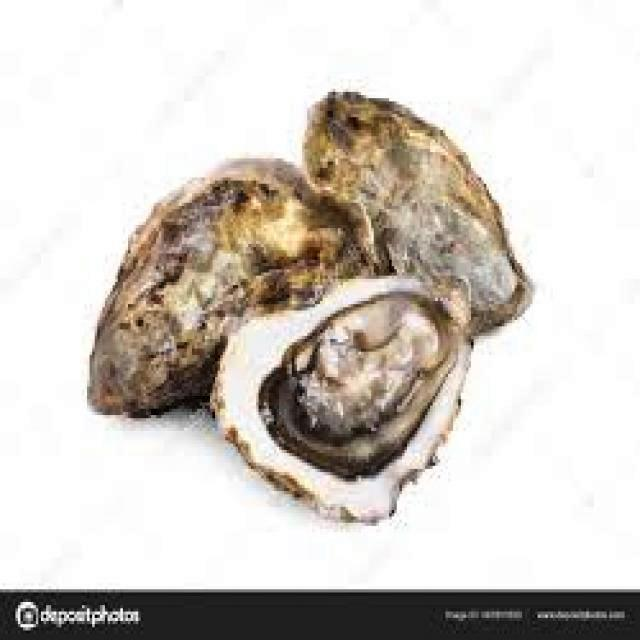Oyster-Closed: (90, 159, 371, 384), (304, 92, 530, 333)
Oyster-Open: (212, 278, 472, 522)
